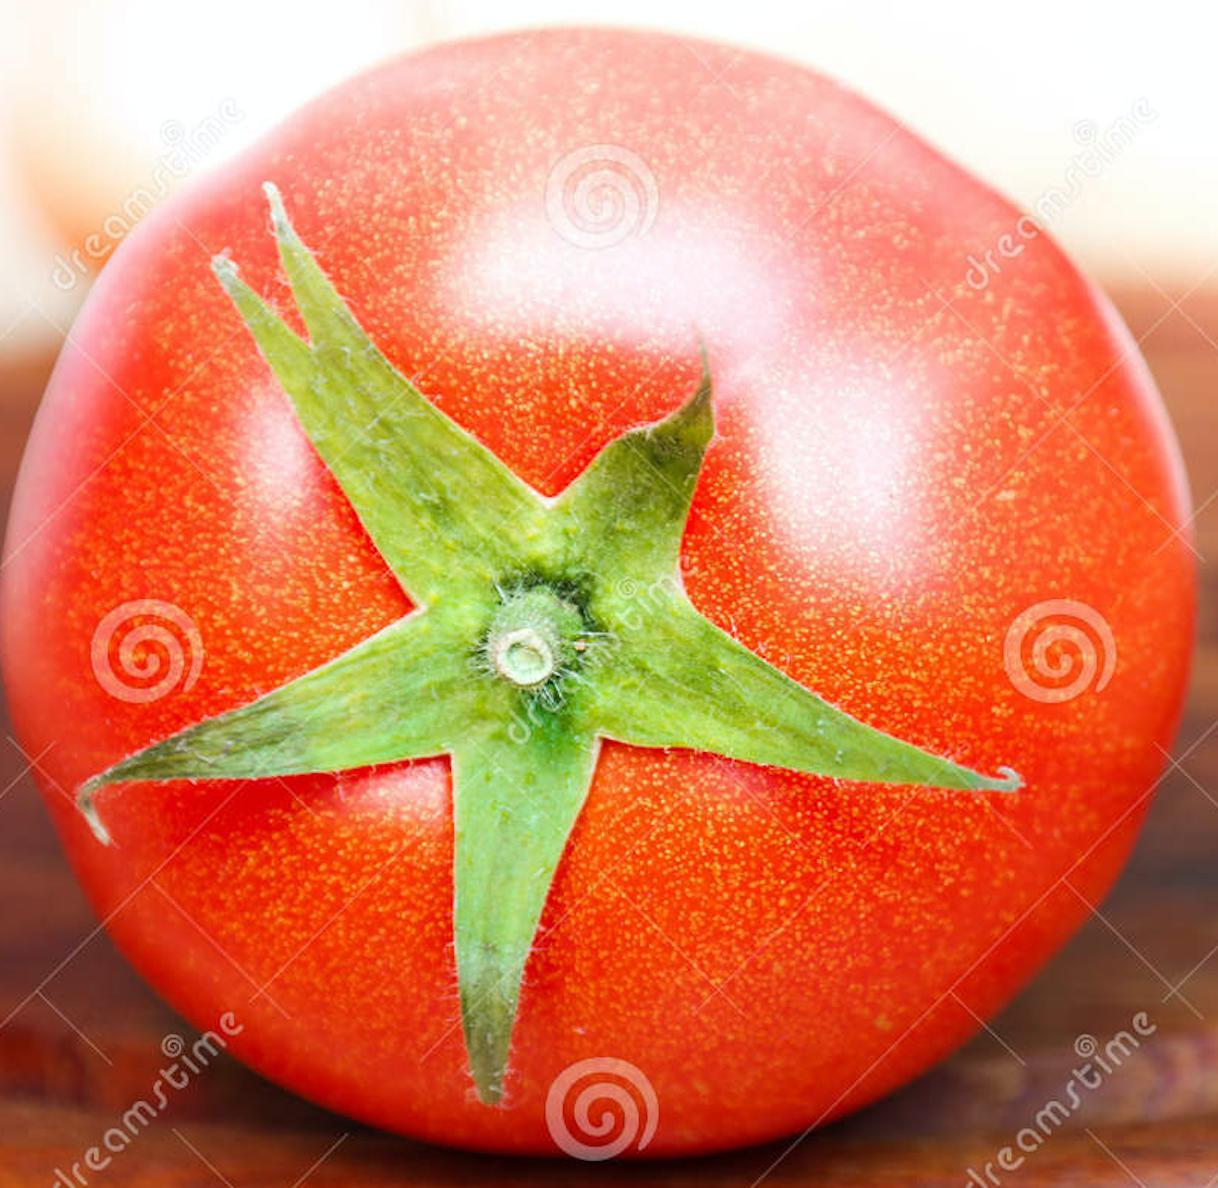tomato: (16, 21, 1200, 1155)
